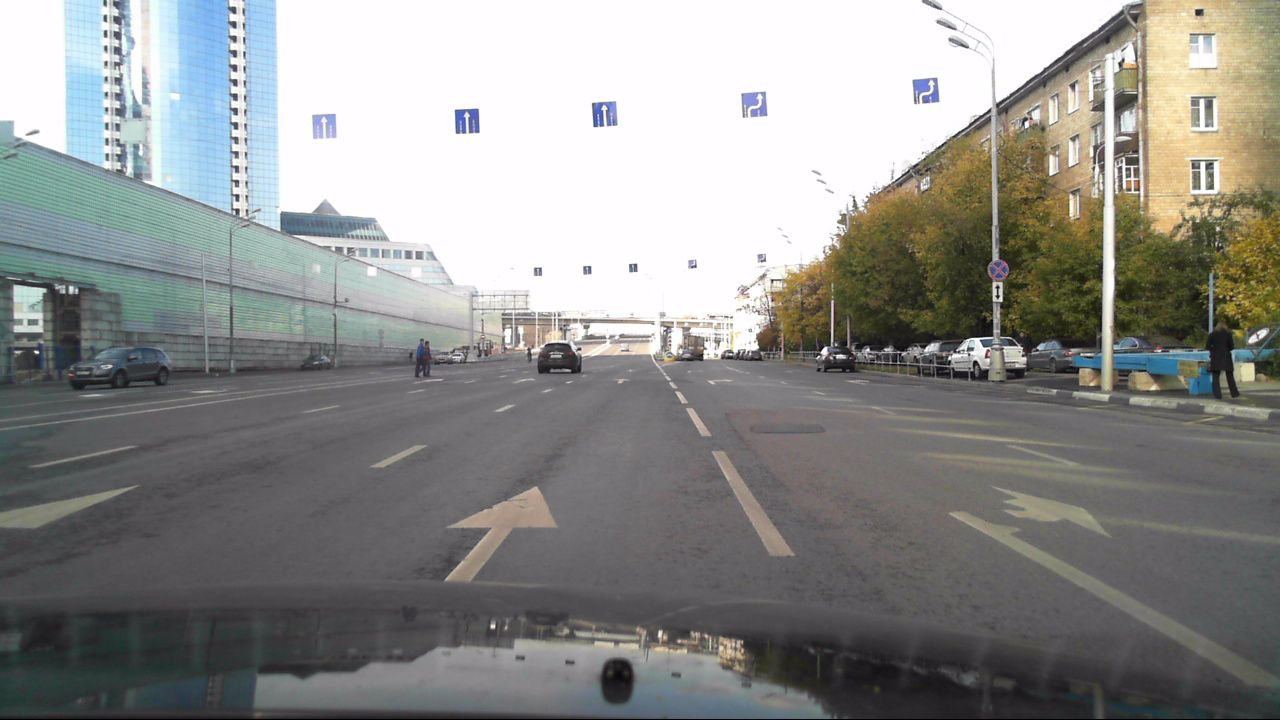No Parking: (985, 259, 1006, 282)
